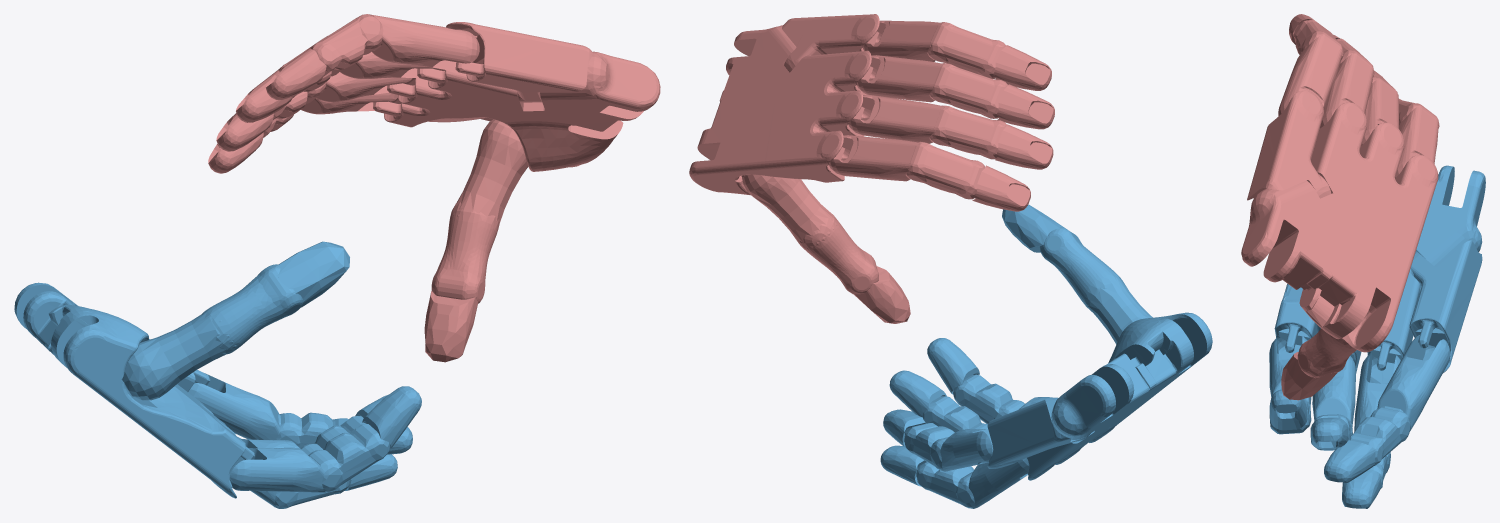
The model's file is Eraser_pc.glb.
3 views of the same model, side by side, from view 1: azimuth 30°, elevation 25°; view 2: azimuth 150°, elevation 25°; view 3: azimuth 270°, elevation 25° (orthographic). The views are drawn at different scales.
Parts seen in each view (by area): view 1: geom_2, geom_1; view 2: geom_2, geom_1; view 3: geom_2, geom_1.
Part boxes in pixels (x1,y1,x2,y2): geom_2: (208,14,660,362); geom_1: (14,241,421,508); geom_2: (689,14,1054,323); geom_1: (880,204,1212,508); geom_2: (1241,14,1439,400); geom_1: (1269,165,1485,508).
Bounding box in the file's own units: 0.2847 × 0.2416 × 0.1142.
